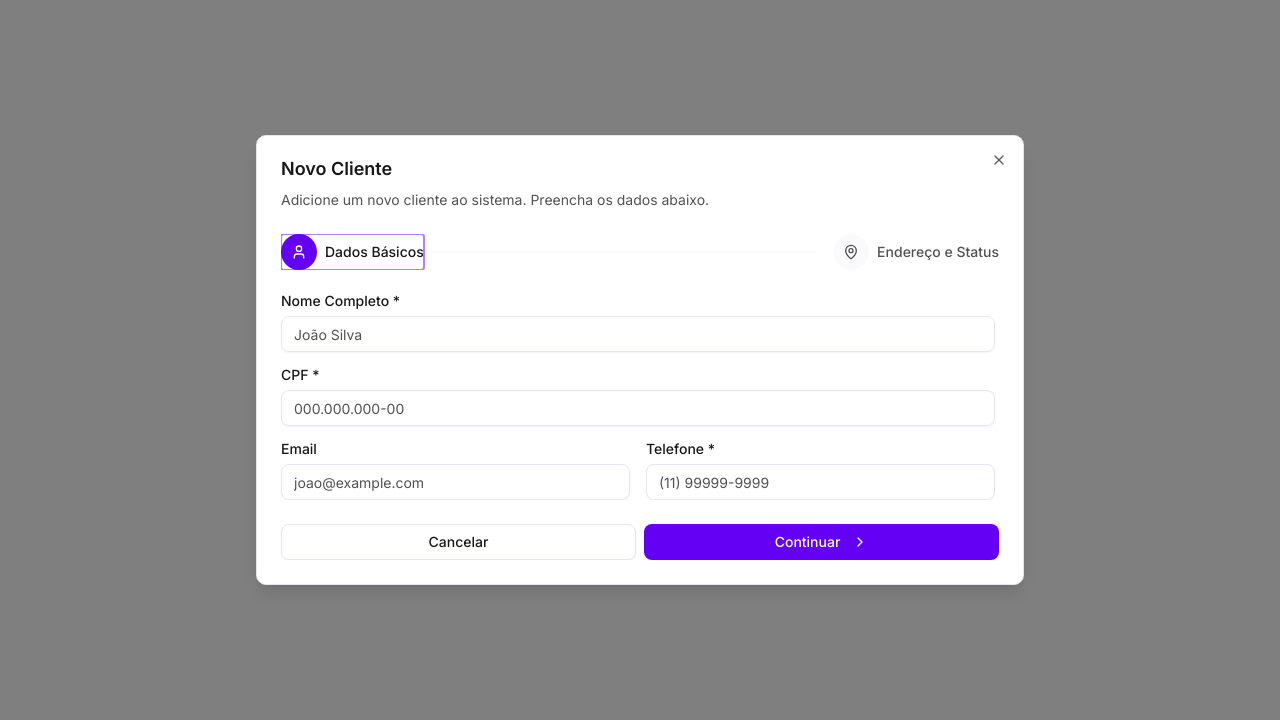
Test: ClientFormDialog - wizard de passos › goes back to step 1 preserving data
In the field labelled "Nome Completo *": (638, 334) [281, 316, 995, 352], type "Carlos Lima"
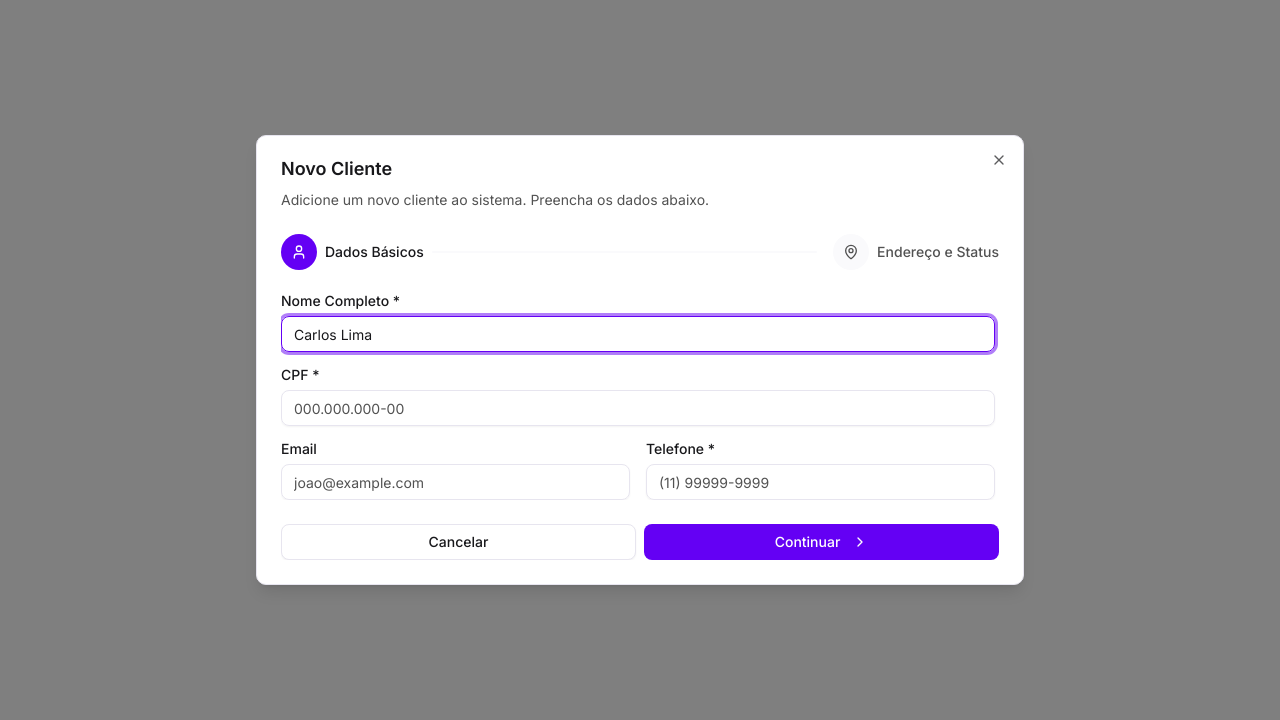
In the field labelled "CPF *": (638, 408) [281, 390, 995, 426], type "52998224725"
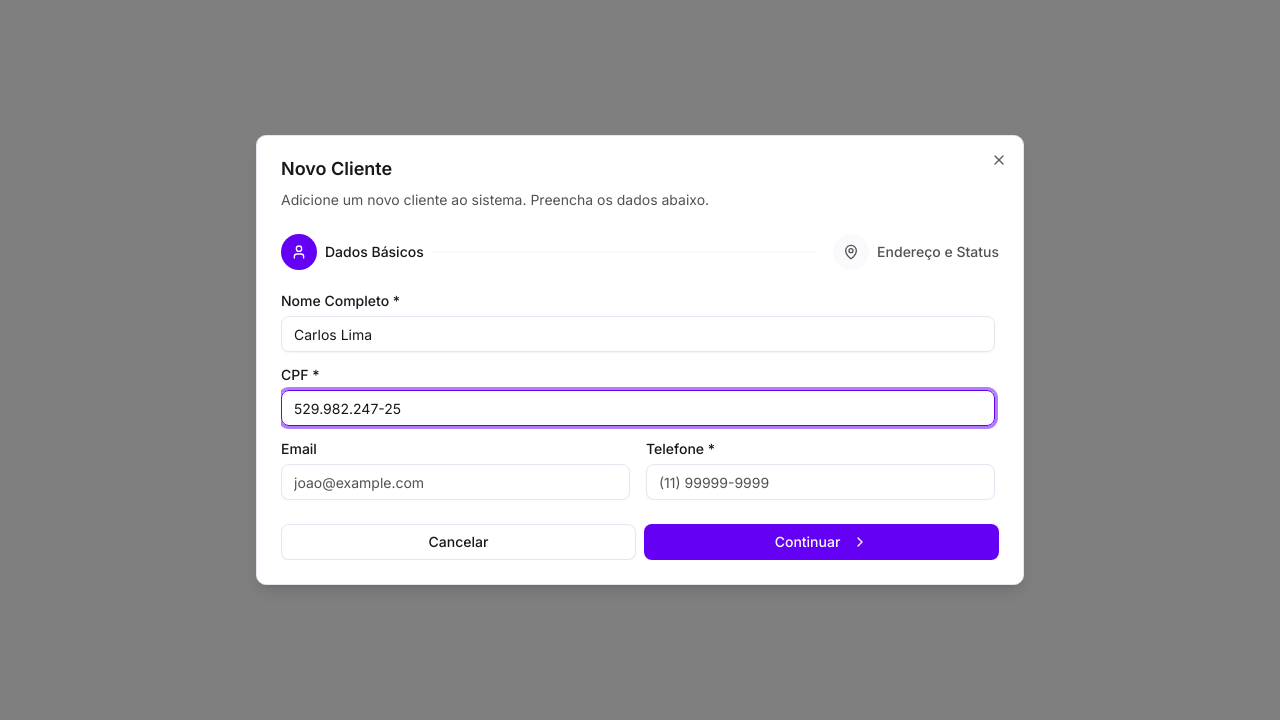
In the field labelled "Email": (456, 482) [281, 464, 630, 500], type "carlos@example.com"
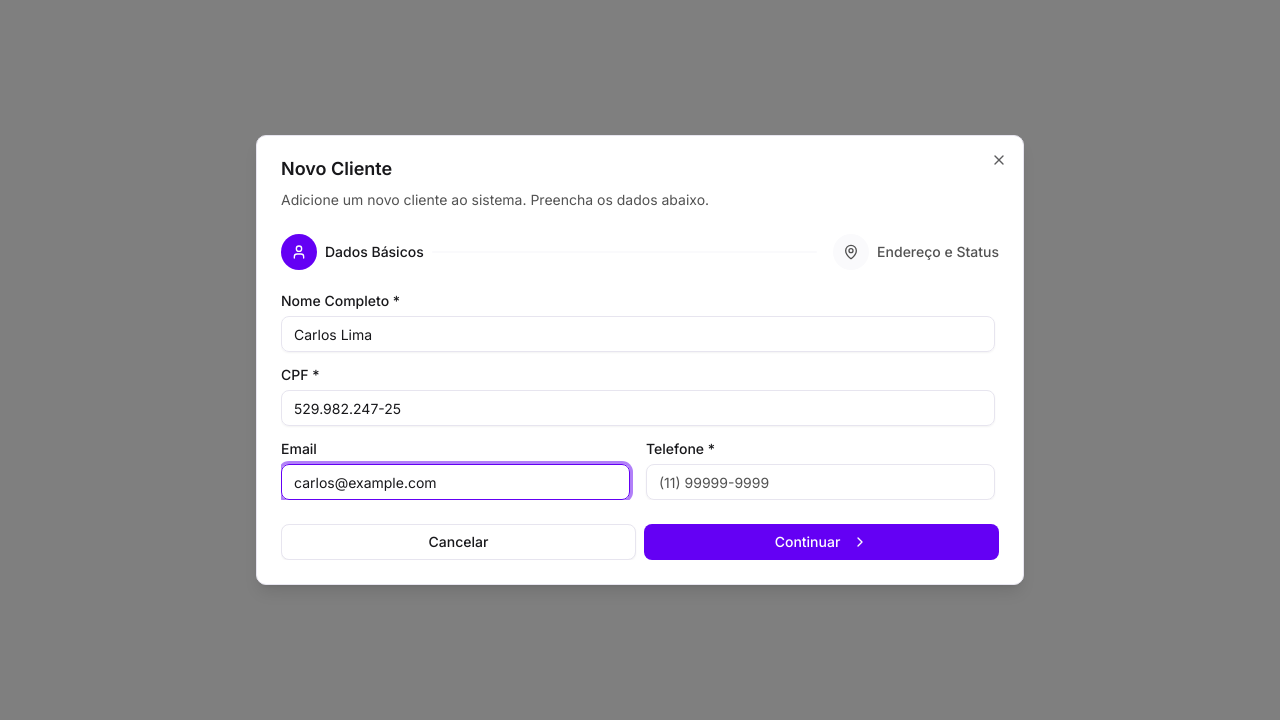
In the field labelled "Telefone *": (820, 482) [646, 464, 995, 500], type "11987654321"
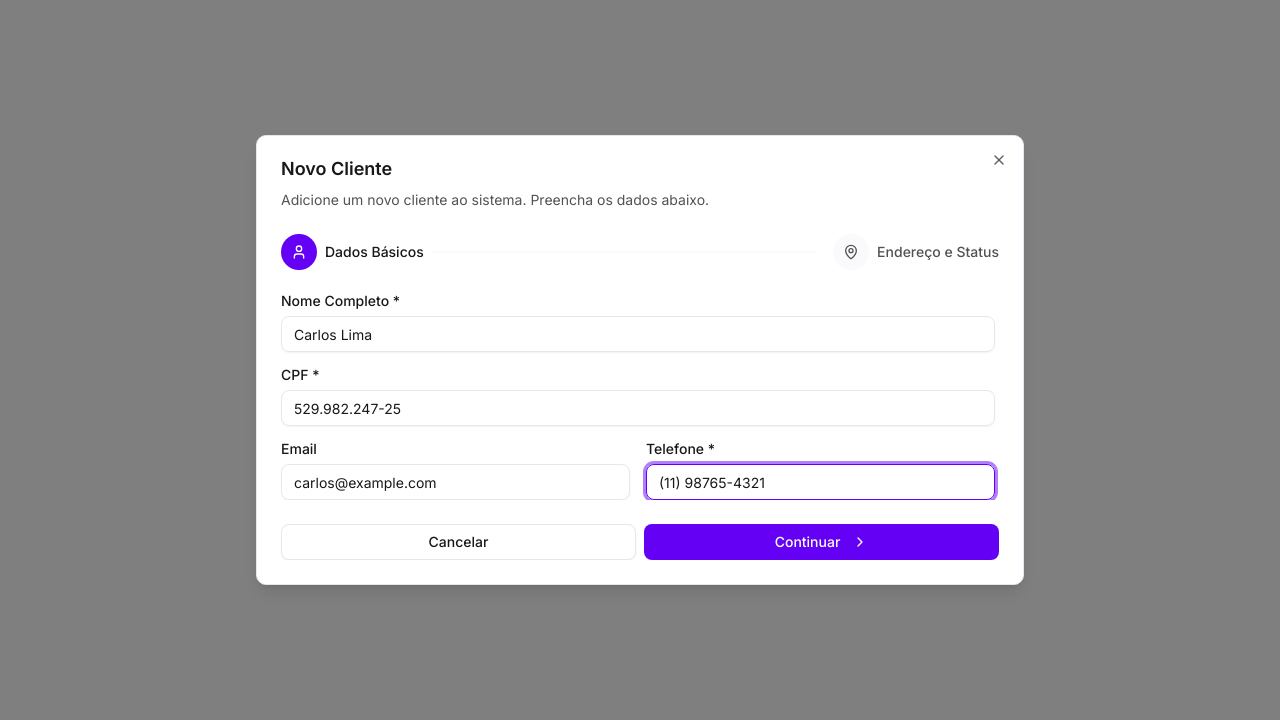
Click the button "Continuar": (822, 542) [644, 524, 999, 560]
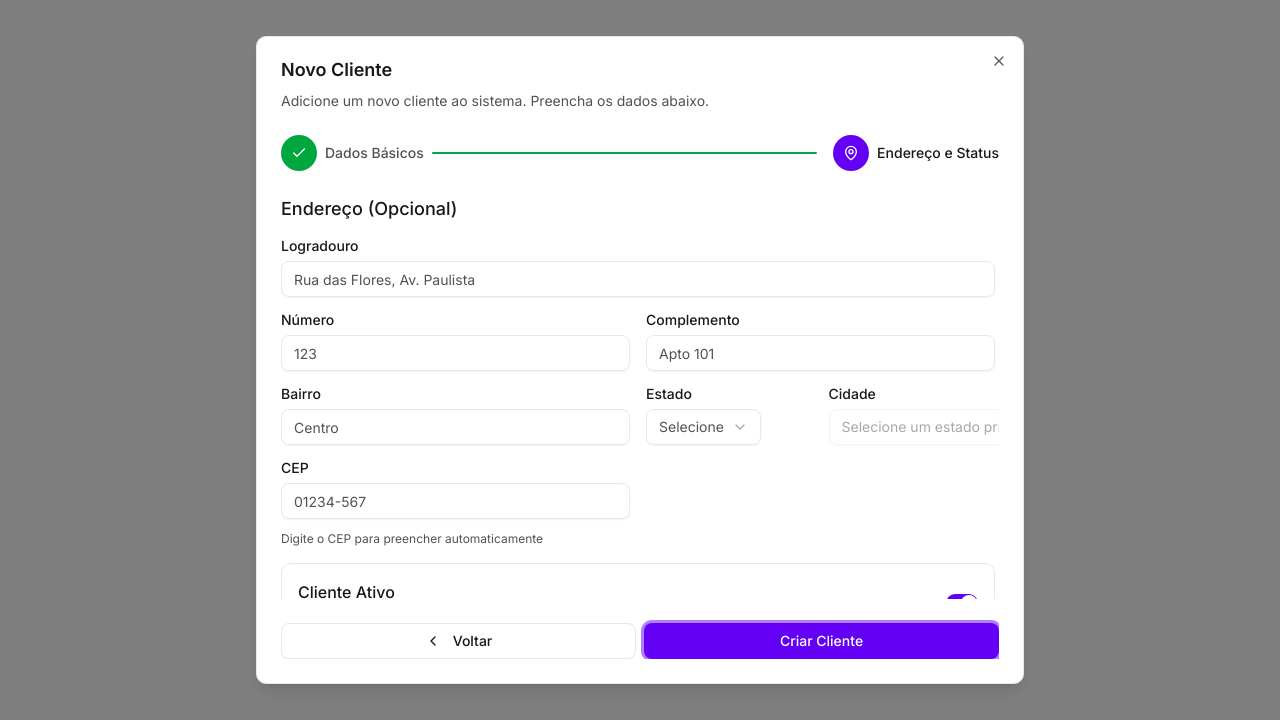
Now the text "Cliente Ativo" is shown, box [298, 582, 395, 599]
Click the button "Voltar": (458, 641) [281, 623, 636, 659]
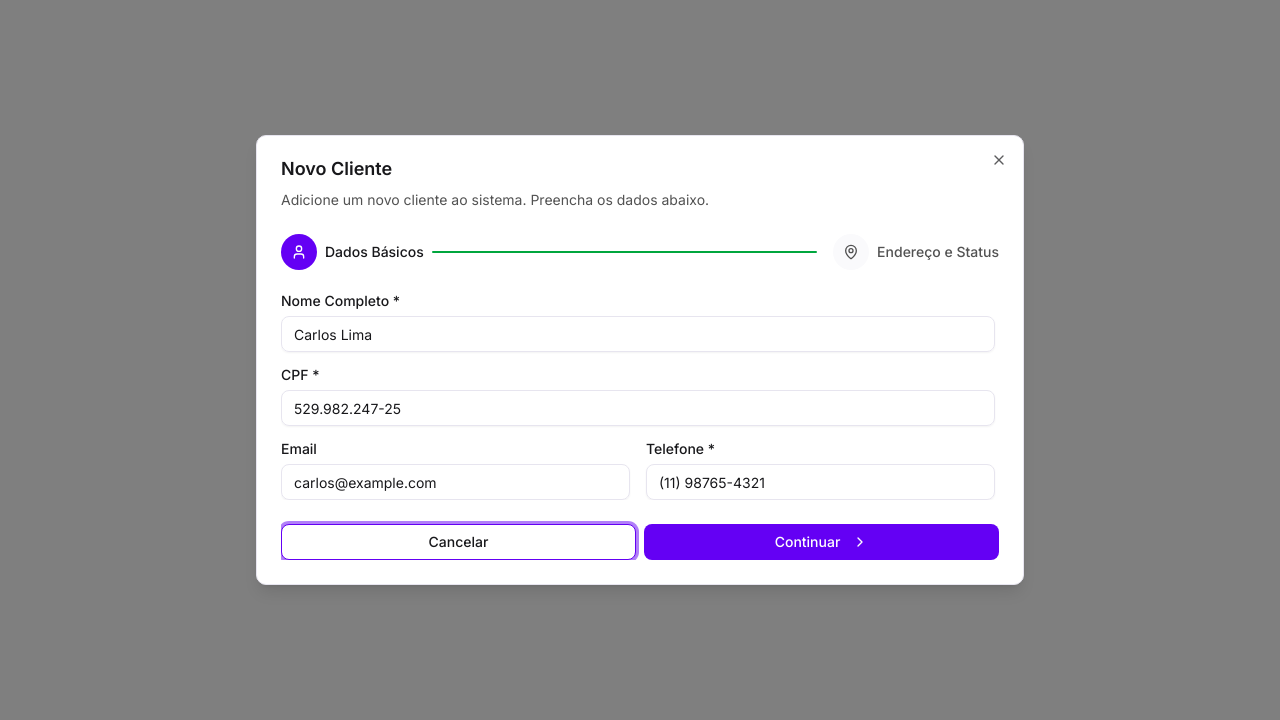
Now the field labelled "Nome Completo *" holds "Carlos Lima", box [281, 316, 995, 352]
